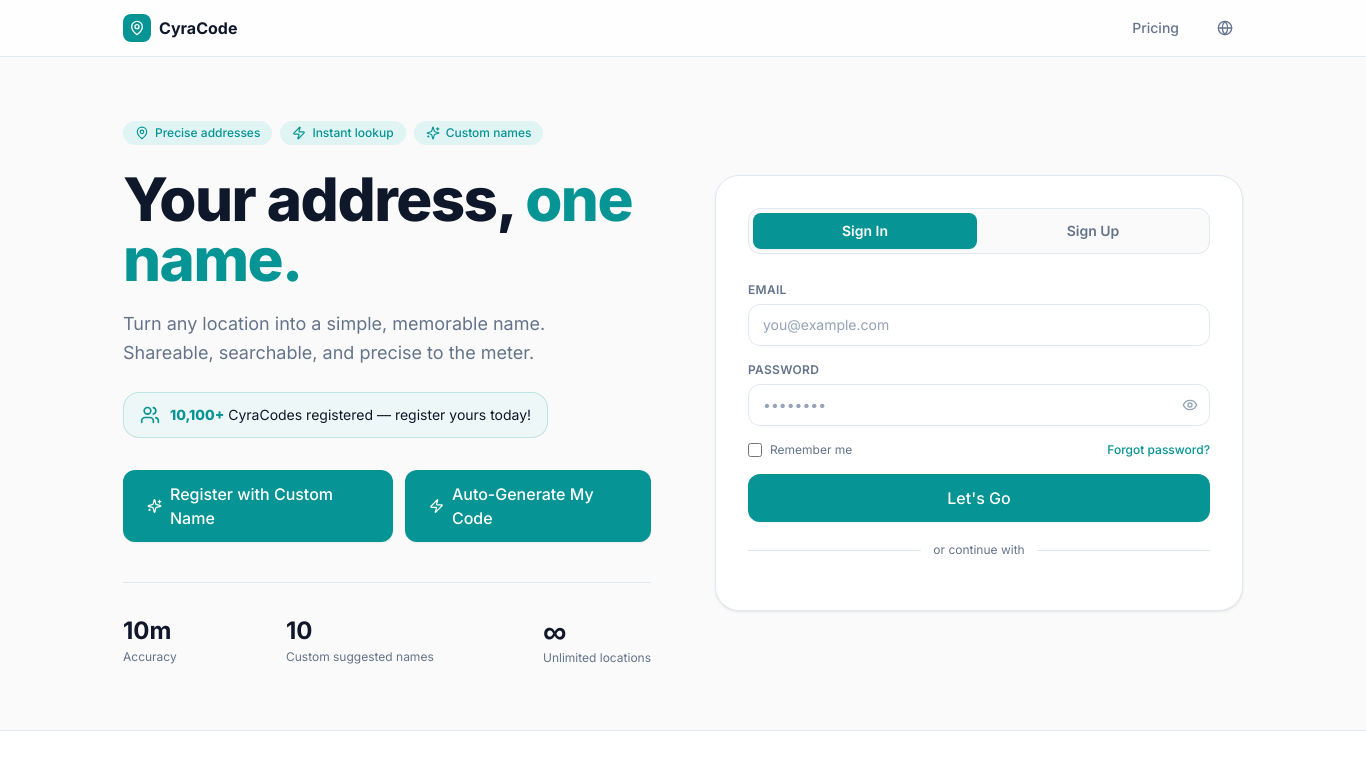
Scenario: LandingPage — Login tab › shows validation error for invalid email
Type "not-an-email" into the field with placeholder "you@example.com" at [979, 325], box [748, 304, 1210, 346]
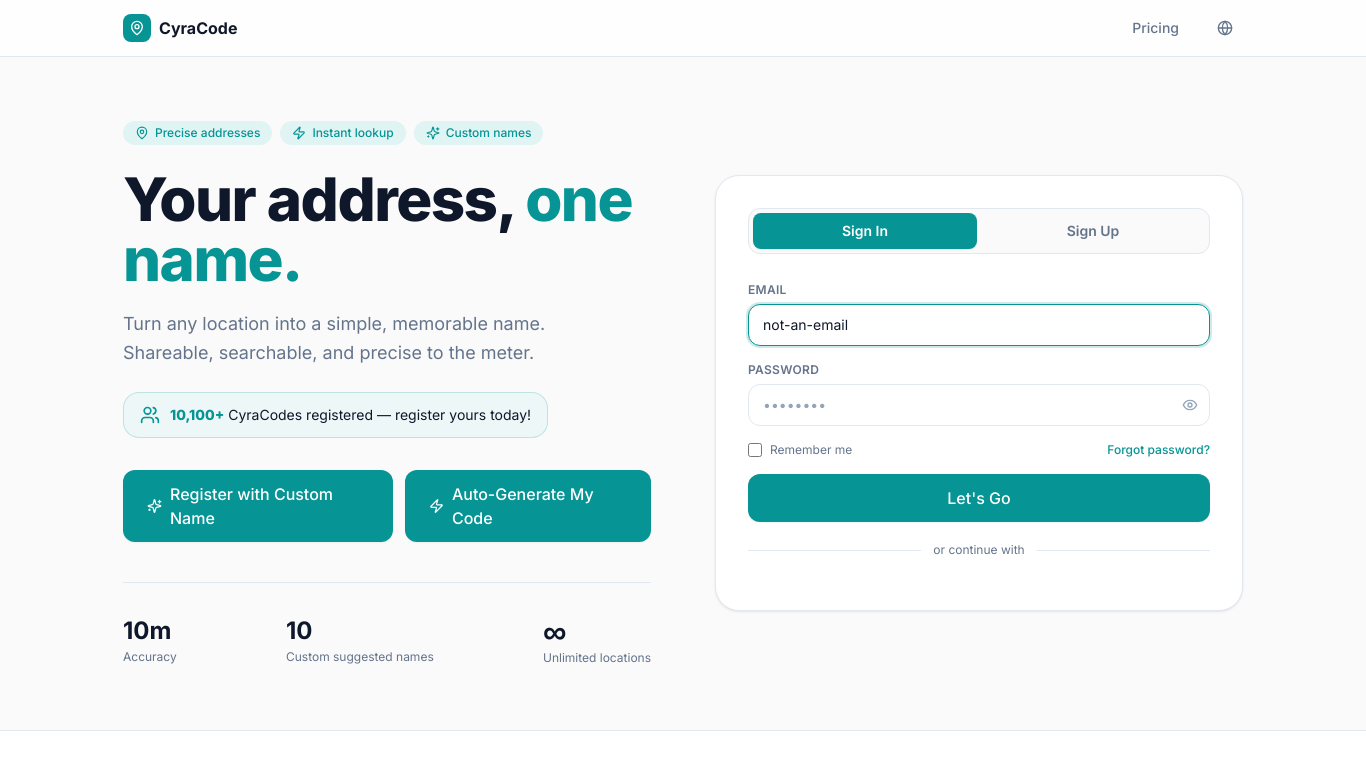
Click the button "Let's Go" at [979, 498], box [748, 474, 1210, 522]
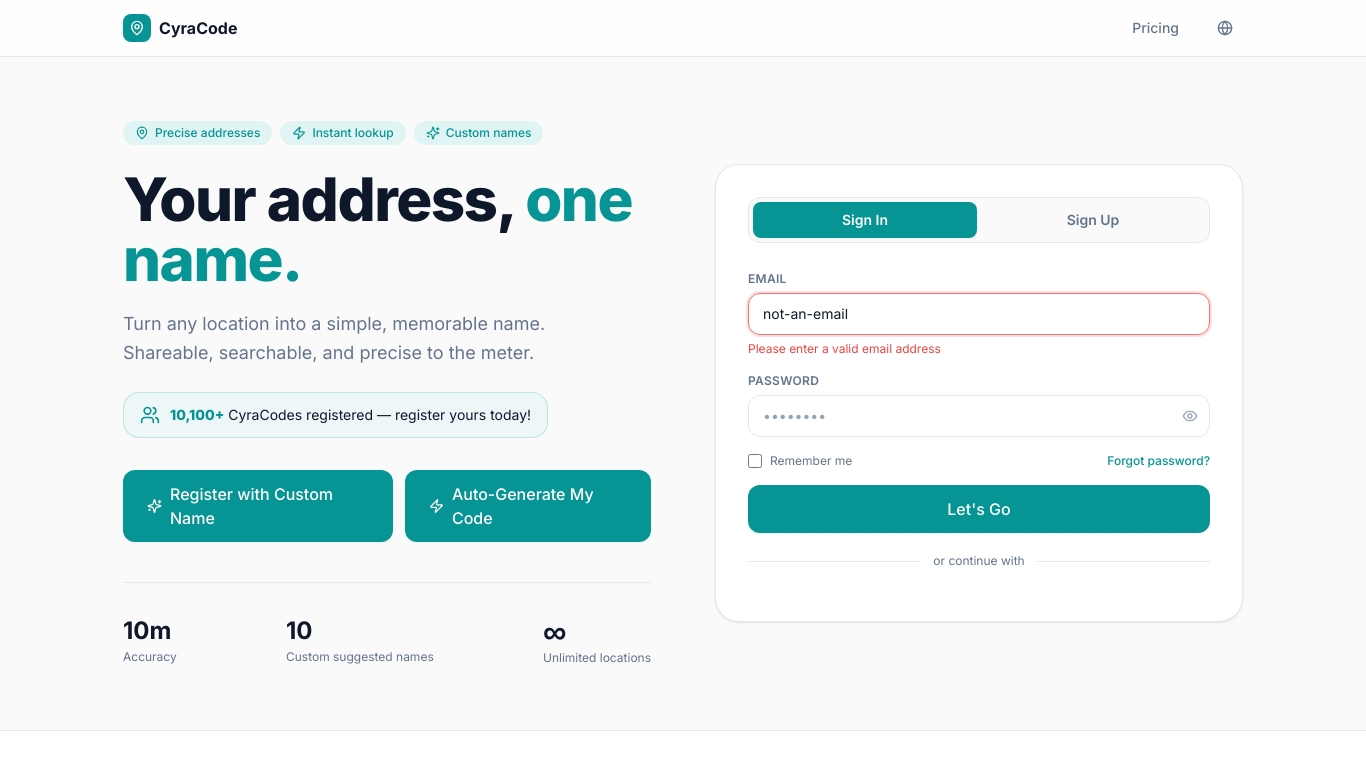
Check: the text "Please enter a valid email address" is shown, box [748, 341, 941, 356]
